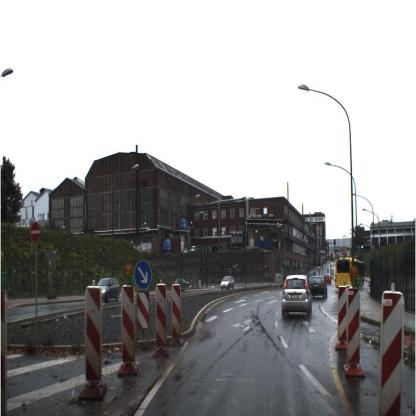mandatory: (132, 256, 154, 294)
other: (26, 220, 44, 247)
